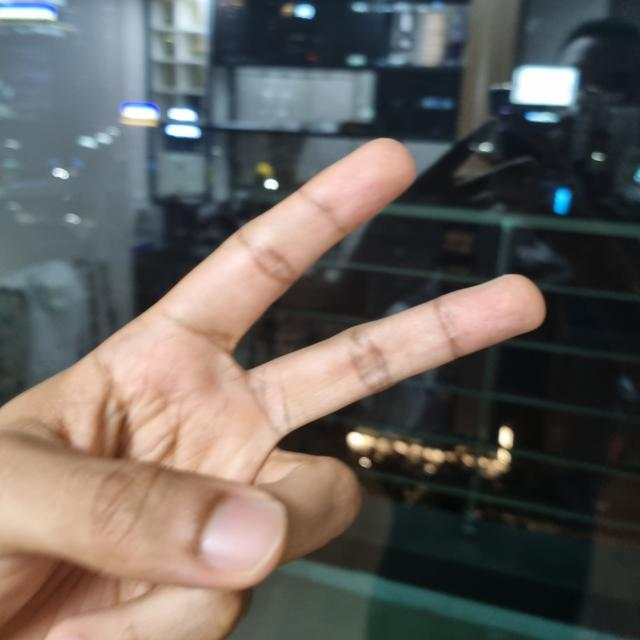Scissors: (0, 140, 545, 640)
